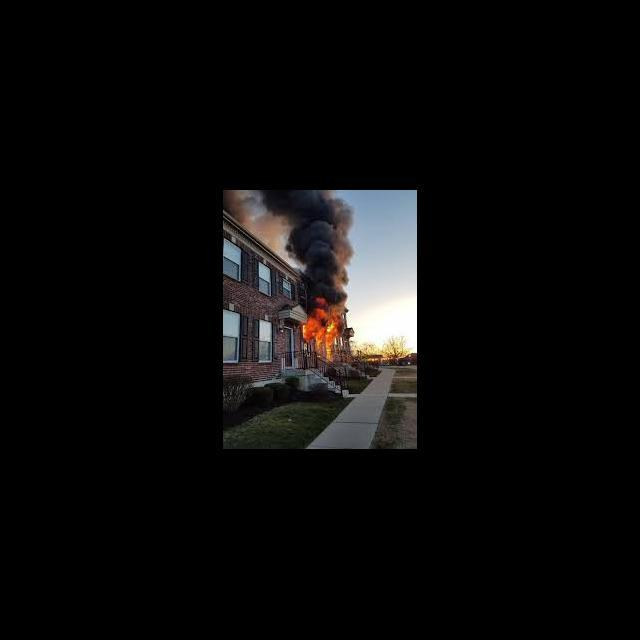Fire: (300, 300, 344, 362)
Smoke: (226, 190, 352, 298)
